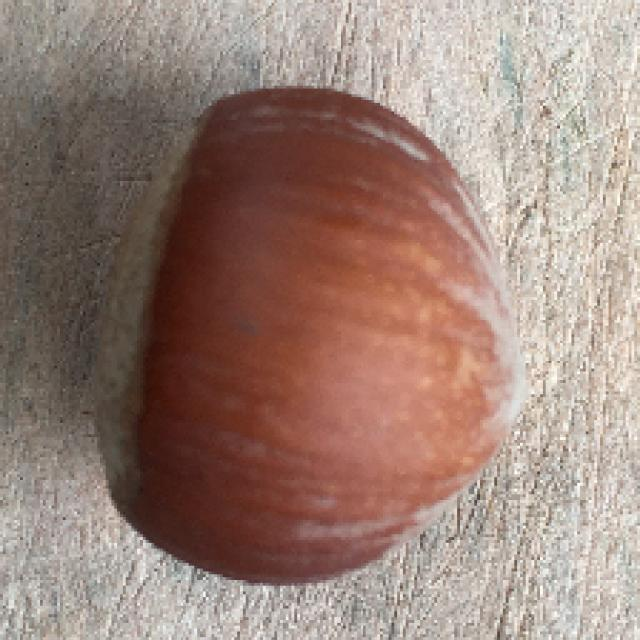qualityHazelnut: (84, 86, 530, 587)
